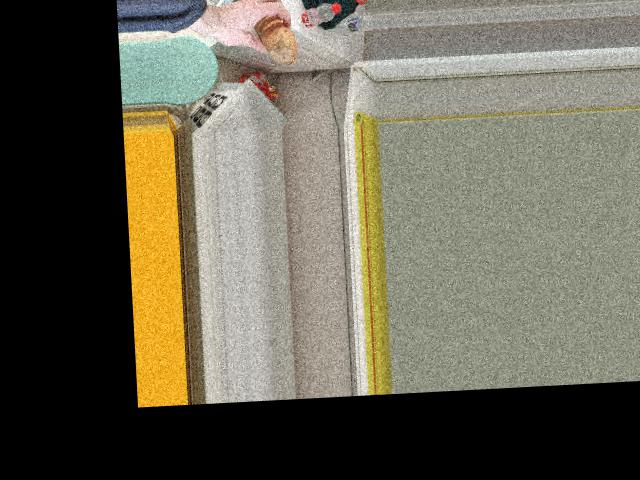sweet_potato: (253, 12, 299, 57)
